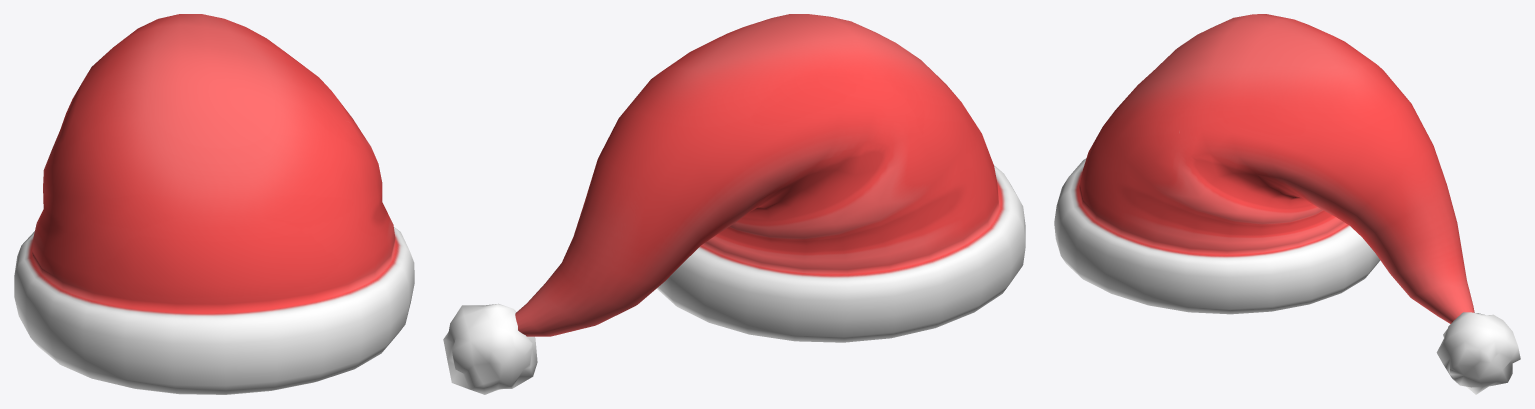
Rendered from Christmashat.fbx.
The picture shows the model from 3 angles, left to right: view 1: azimuth 30°, elevation 25°; view 2: azimuth 150°, elevation 25°; view 3: azimuth 270°, elevation 25°; orthographic projection. The views are drawn at different scales.
Parts seen in each view (by area): view 1: Christmashat; view 2: Christmashat; view 3: Christmashat.
Boxes of the visible parts, x1,y1,x2,y2 form: Christmashat: (14,14,414,394); Christmashat: (443,14,1025,394); Christmashat: (1054,14,1520,394).
Bounding box in the file's own units: 36.31 × 27.77 × 42.02.
